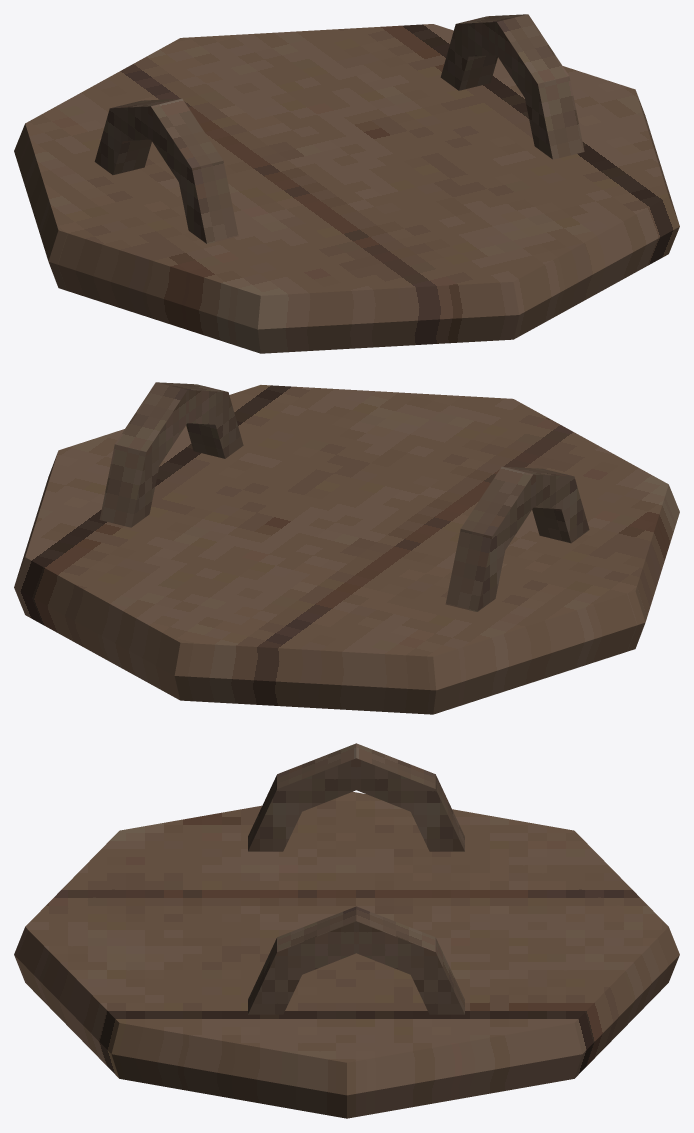
File: barrel_lid_small_alt.glb
The picture shows the model from 3 angles, top to bottom: view 1: azimuth 30°, elevation 25°; view 2: azimuth 150°, elevation 25°; view 3: azimuth 270°, elevation 25°; orthographic projection. The views are drawn at different scales.
Visible parts, largest first — view 1: barrel_lid_small_alt; view 2: barrel_lid_small_alt; view 3: barrel_lid_small_alt.
Boxes of the visible parts, x1,y1,x2,y2 form: barrel_lid_small_alt: (14,14,679,353); barrel_lid_small_alt: (14,382,679,714); barrel_lid_small_alt: (14,743,679,1118).
Size of the model in its own units: 0.5785 by 0.143 by 0.5785.
Materials: 2 (2 with a texture image).
